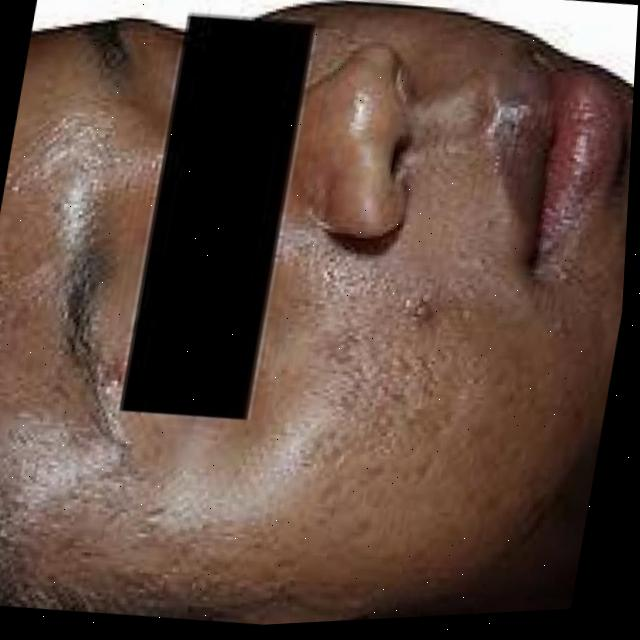Rosacea: (290, 283, 563, 523)
